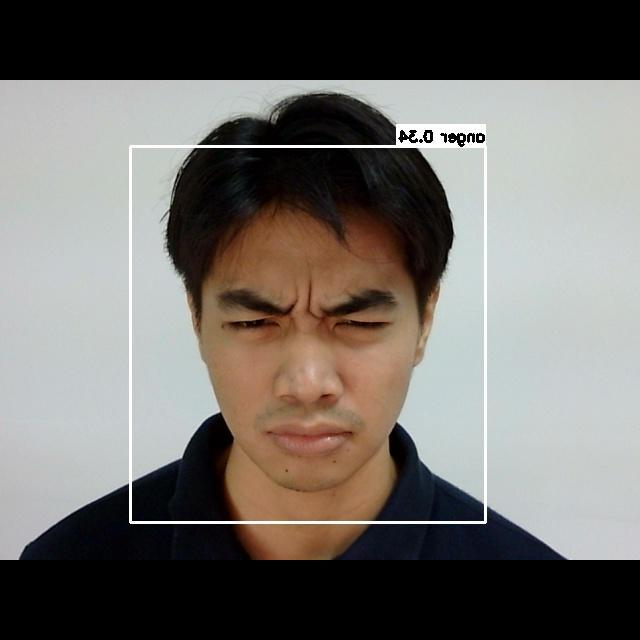Angry: (197, 254, 424, 467)
